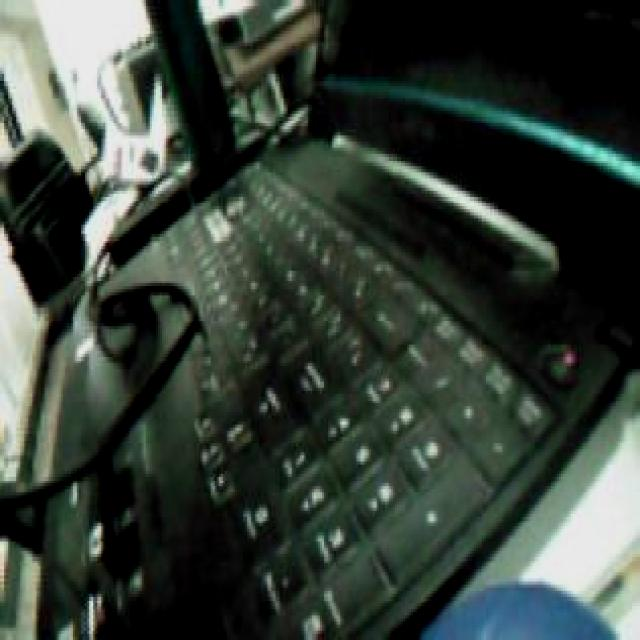BallPurple: (417, 581, 619, 640)
